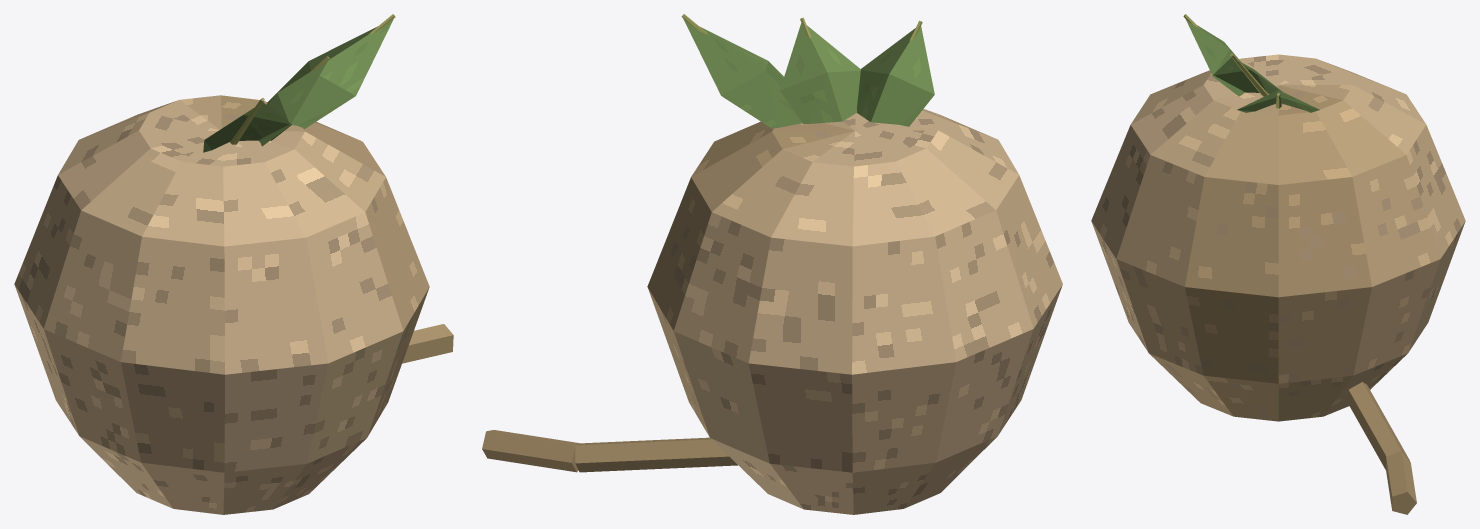
Rendered from sugar_beet.glb.
3 renders of one model, left to right at view 1: azimuth 30°, elevation 25°; view 2: azimuth 150°, elevation 25°; view 3: azimuth 270°, elevation 25°, orthographic. The views are drawn at different scales.
Parts seen in each view (by area): view 1: block_round taproot, block_radish or beet greens tip (×2), block_radish or beet greens blade (×3), block_slender trailing root 1; view 2: block_round taproot, block_radish or beet greens blade (×5), block_radish or beet greens tip (×5), block_slender trailing root 0, block_slender trailing root 1; view 3: block_round taproot, block_slender trailing root 0, block_slender trailing root 1, block_radish or beet greens tip, block_radish or beet greens blade.
Part boxes in pixels (bbox=[...]): block_round taproot: bbox=[14, 95, 429, 514]; block_radish or beet greens tip (×2): bbox=[277, 19, 393, 125]; block_radish or beet greens blade (×3): bbox=[203, 75, 355, 152]; block_slender trailing root 1: bbox=[402, 324, 453, 363]; block_round taproot: bbox=[647, 109, 1062, 514]; block_radish or beet greens blade (×5): bbox=[721, 70, 934, 128]; block_radish or beet greens tip (×5): bbox=[683, 18, 934, 95]; block_slender trailing root 0: bbox=[575, 437, 737, 472]; block_slender trailing root 1: bbox=[482, 430, 579, 472]; block_round taproot: bbox=[1091, 54, 1465, 421]; block_slender trailing root 0: bbox=[1344, 382, 1409, 469]; block_slender trailing root 1: bbox=[1386, 451, 1416, 514]; block_radish or beet greens tip: bbox=[1185, 19, 1229, 76]; block_radish or beet greens blade: bbox=[1214, 70, 1265, 92].
Size of the model in its own units: 0.2233 by 0.189 by 0.1736.
2 materials, 2 textured.
